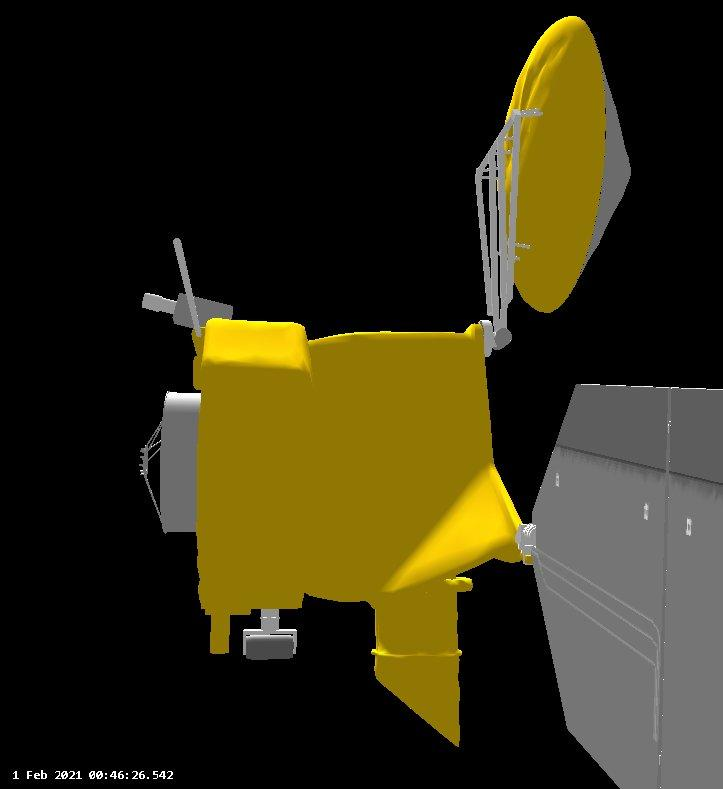antenna: (502, 9, 643, 320)
body: (178, 315, 536, 659)
solar: (522, 374, 723, 789)
